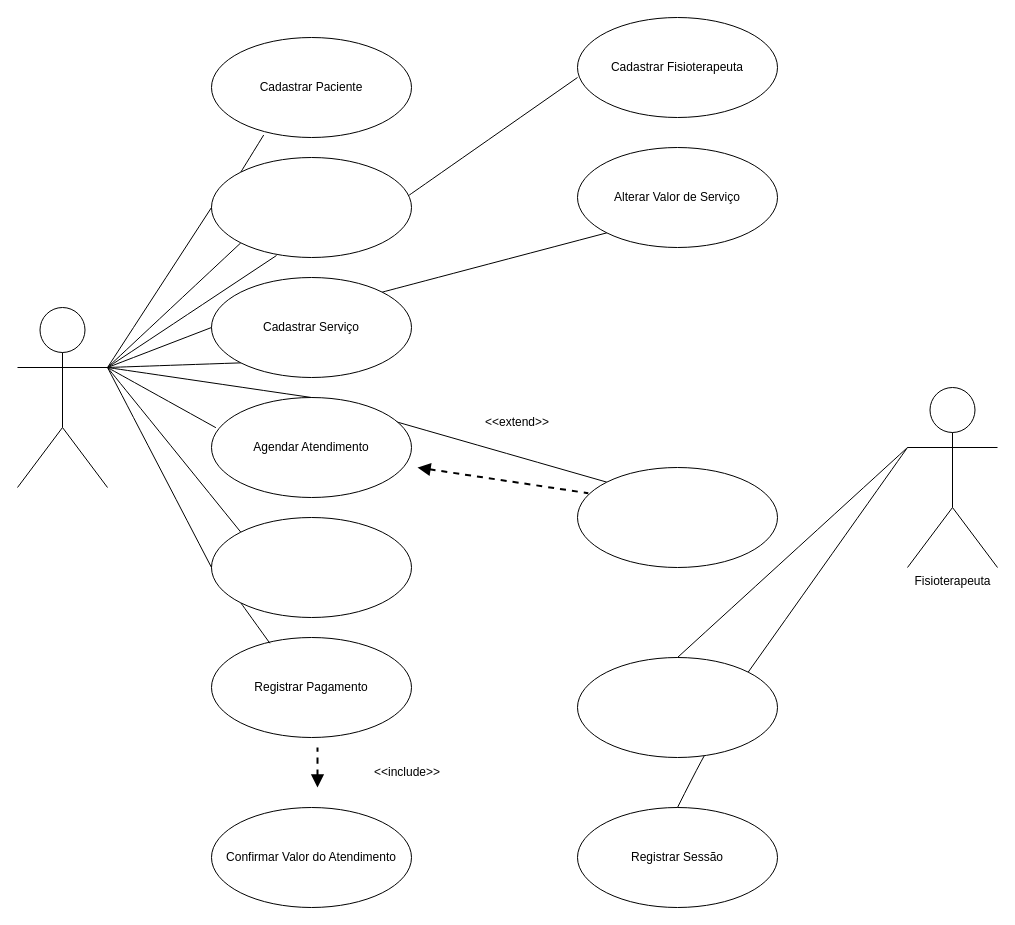
Image size: 1015x925. Some labels were removed from this diagram. The shapes that lost their labels are listed below. From the top down, each one's centre as x and y in pixels, then its label:
At (x=311, y=207): "Atualizar Cadastro de Paciente".
At (x=62, y=397): "Recepcionista".
At (x=677, y=517): "Cancelar/Remarcar Atendimento".
At (x=311, y=567): "Gerar Relatório de Atendimentos".
At (x=677, y=707): "Cadastrar Plano de Tratamento".
